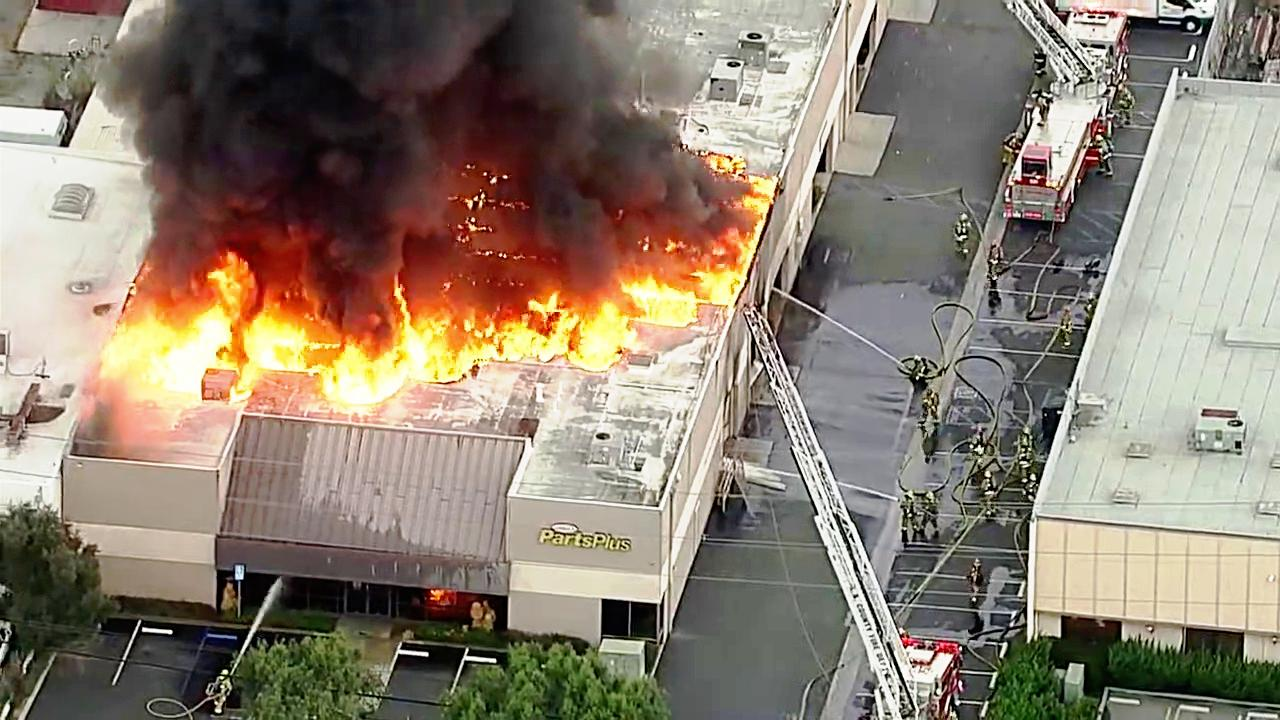fire: (313, 300, 445, 402), (130, 269, 221, 387), (543, 282, 645, 371), (465, 292, 559, 372), (606, 269, 699, 342)
smoke: (182, 0, 555, 202)
